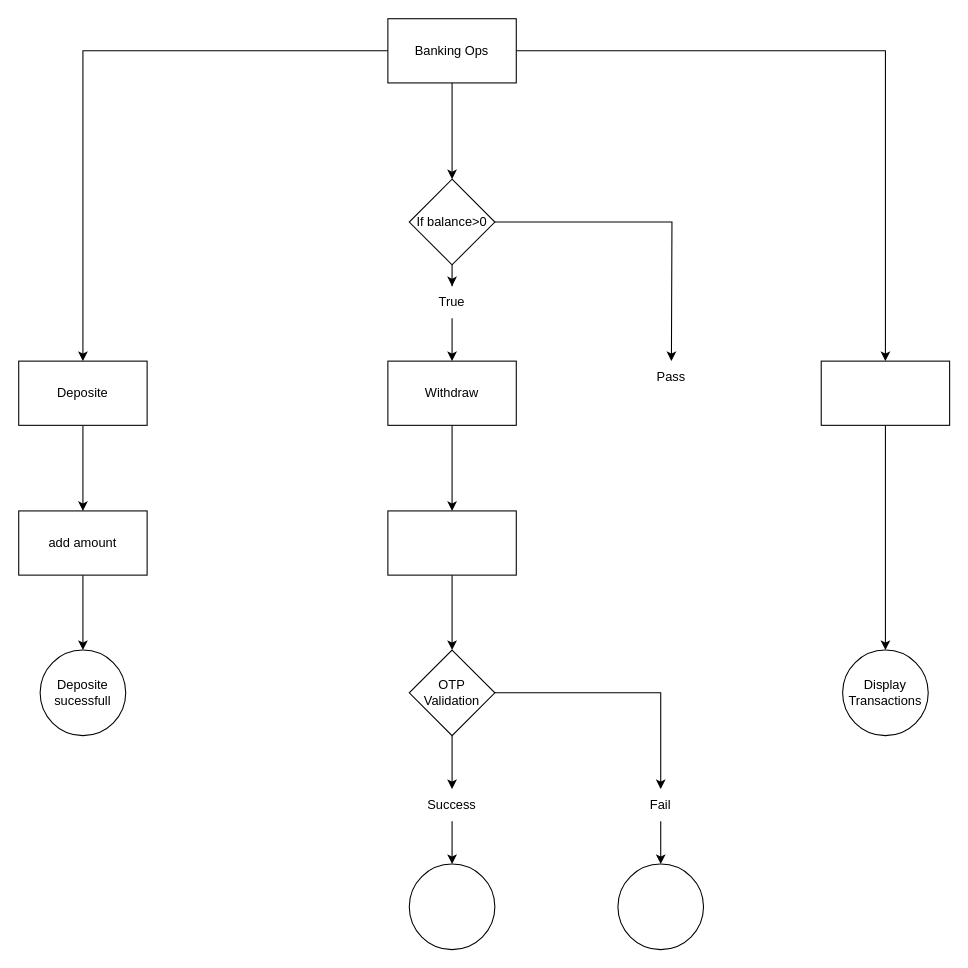
Image size: 968x968. Some labels were removed from this diagram. Here are the shapes that lost their labels. From the top down, the centre of each, then its label:
At (885,392): "Account Statement last 5 transactions".
At (451,542): "amount".
At (451,906): "Amount withdraw".
At (660,906): "Account Block for 2 hours".
